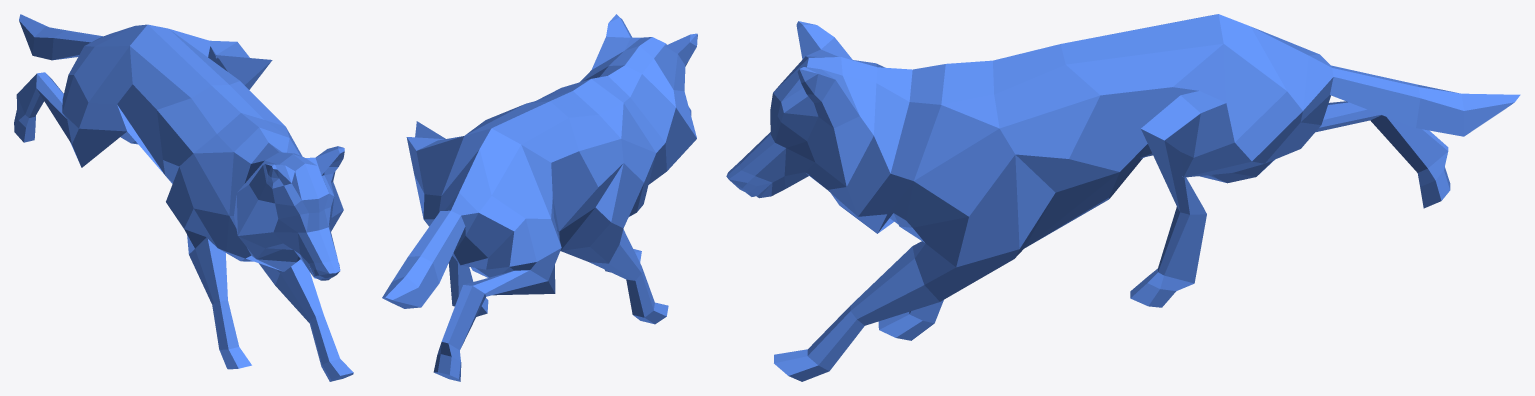
File: wolfRunA_v009008.obj
3 views of the same model, side by side, from view 1: azimuth 30°, elevation 25°; view 2: azimuth 150°, elevation 25°; view 3: azimuth 270°, elevation 25° (orthographic). The views are drawn at different scales.
Visible parts, largest first — view 1: comp_wolf_rig:wolf_body comp_wolf_rig:wolf; view 2: comp_wolf_rig:wolf_body comp_wolf_rig:wolf; view 3: comp_wolf_rig:wolf_body comp_wolf_rig:wolf.
Boxes of the visible parts, x1,y1,x2,y2 form: comp_wolf_rig:wolf_body comp_wolf_rig:wolf: (14,14,353,381); comp_wolf_rig:wolf_body comp_wolf_rig:wolf: (382,14,697,381); comp_wolf_rig:wolf_body comp_wolf_rig:wolf: (726,14,1520,381).
Bounding box in the file's own units: 45.16 × 66.98 × 142.
